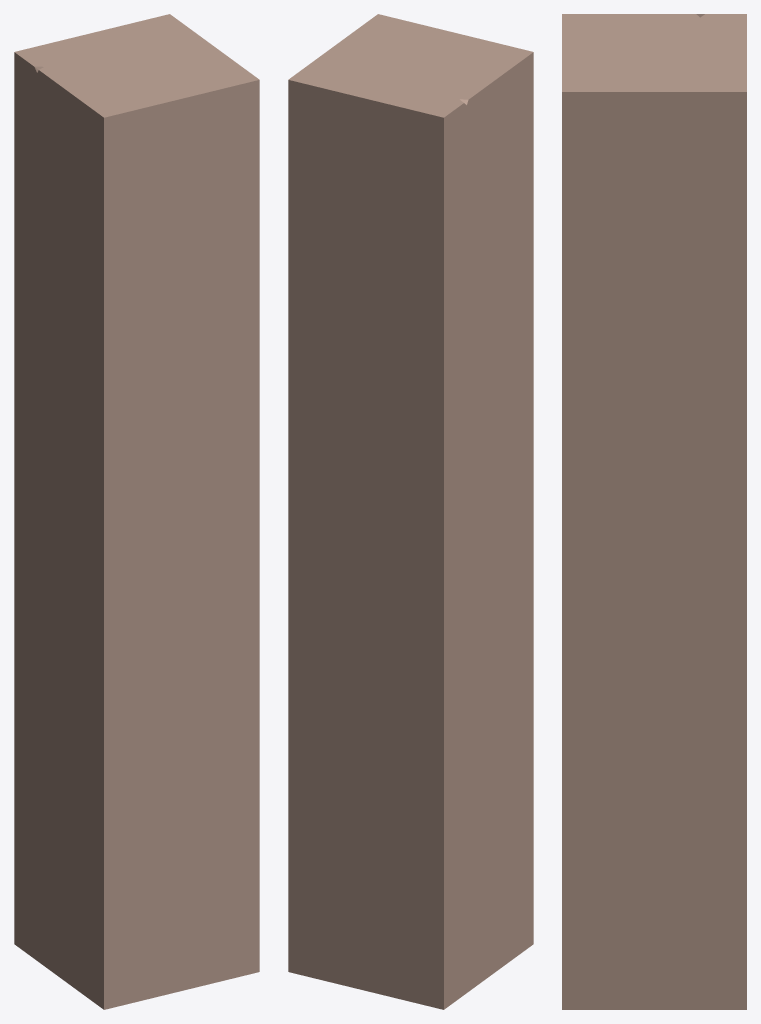
The model's file is Plataform_M.fbx.
3 renders of one model, left to right at view 1: azimuth 30°, elevation 25°; view 2: azimuth 150°, elevation 25°; view 3: azimuth 270°, elevation 25°, orthographic. The views are drawn at different scales.
Parts seen in each view (by area): view 1: Plataforma-M; view 2: Plataforma-M; view 3: Plataforma-M.
Boxes of the visible parts, left/top/right/bottom form: Plataforma-M: left=14, top=14, right=259, bottom=1009; Plataforma-M: left=288, top=14, right=533, bottom=1009; Plataforma-M: left=562, top=14, right=746, bottom=1009.
Size of the model in its own units: 1215 by 6652 by 1215.
